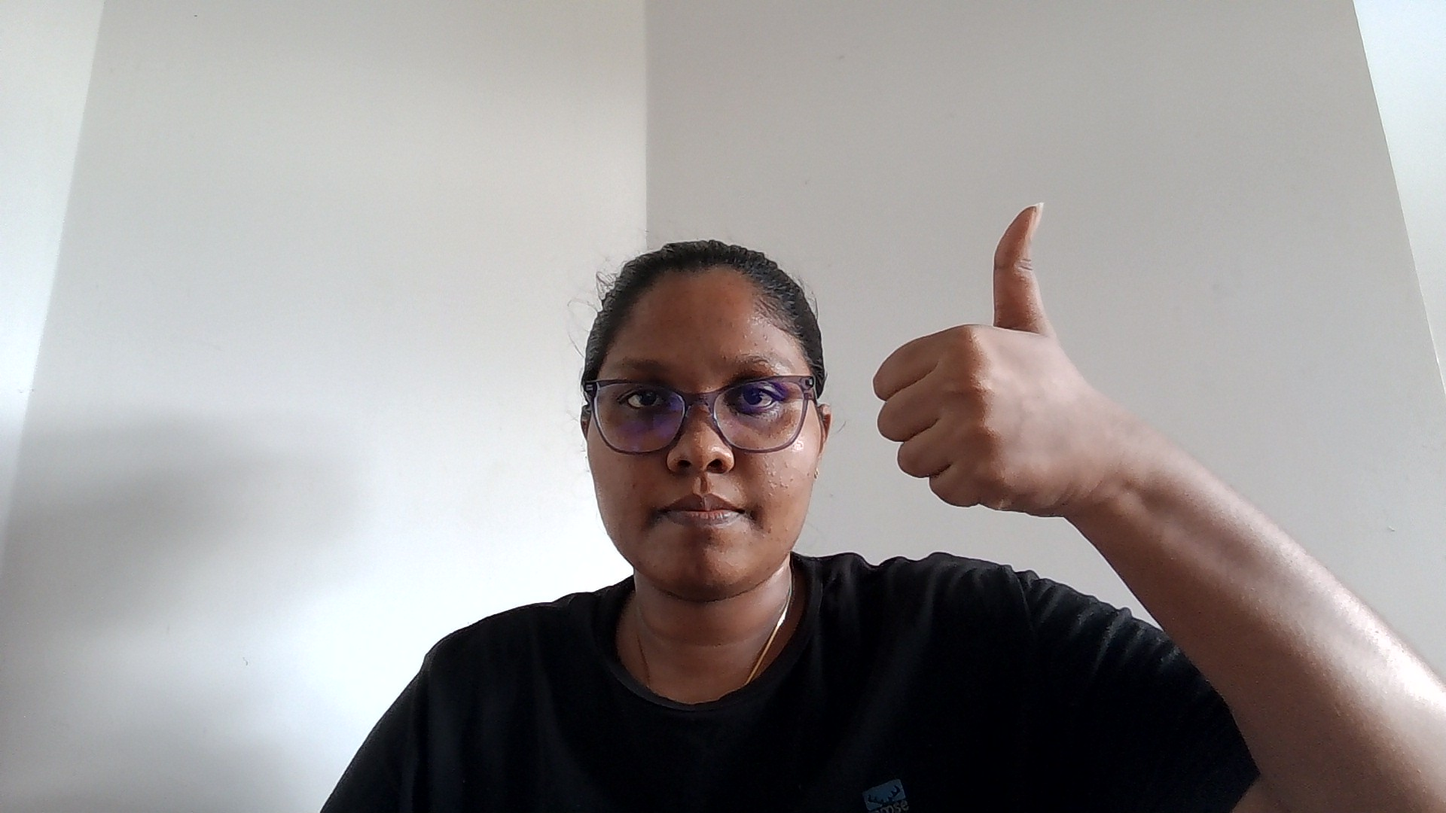Thumbs Up: (860, 111, 1192, 594)
